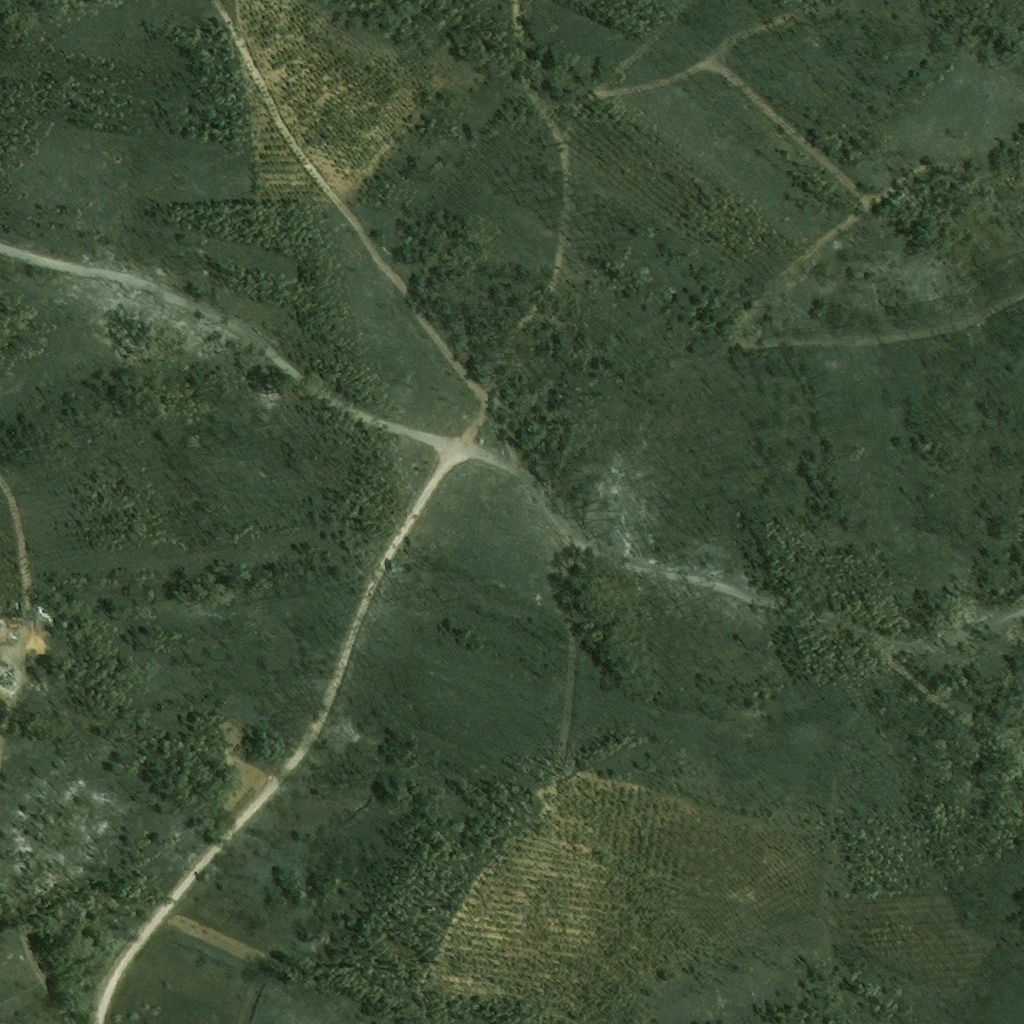3 destroyed: (33, 611, 52, 631), (0, 620, 20, 637), (0, 671, 17, 689)
